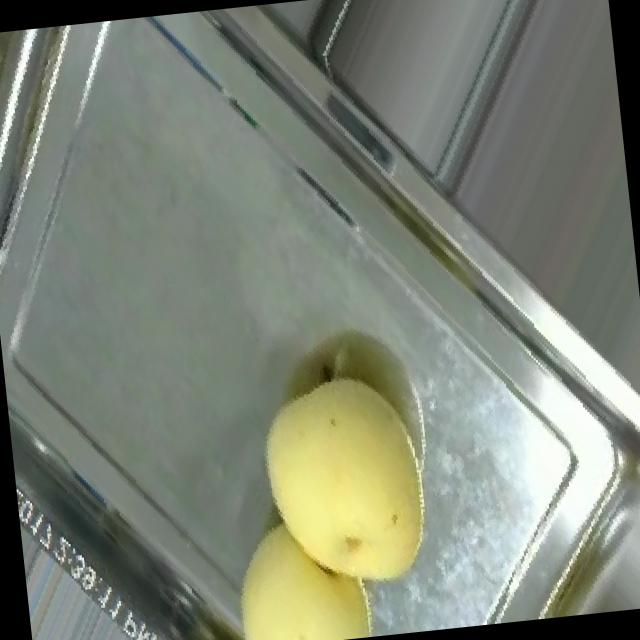Fruit: (230, 344, 466, 618)
